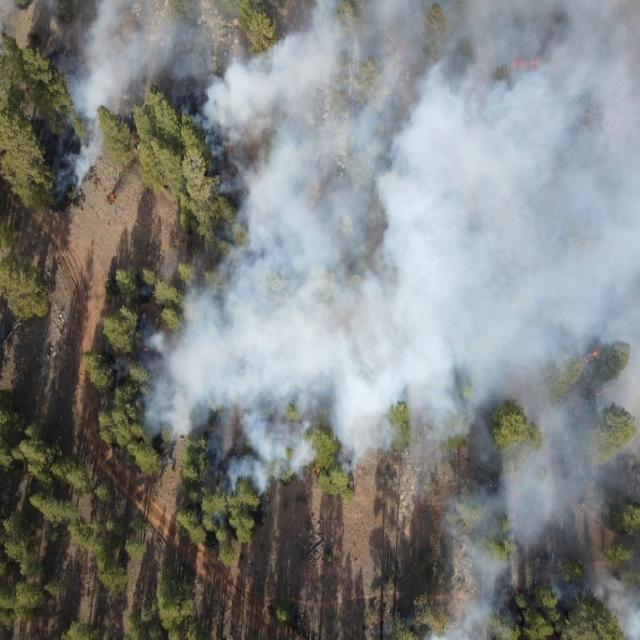fire: (508, 56, 542, 70), (580, 347, 602, 367), (140, 345, 152, 354), (106, 193, 118, 202), (315, 466, 322, 475), (514, 589, 522, 596)
smoke: (193, 116, 640, 490), (65, 0, 640, 115), (443, 488, 640, 602), (113, 259, 193, 460), (387, 602, 518, 640), (42, 116, 100, 200), (1, 1, 66, 72), (204, 490, 268, 530), (605, 601, 640, 640)
